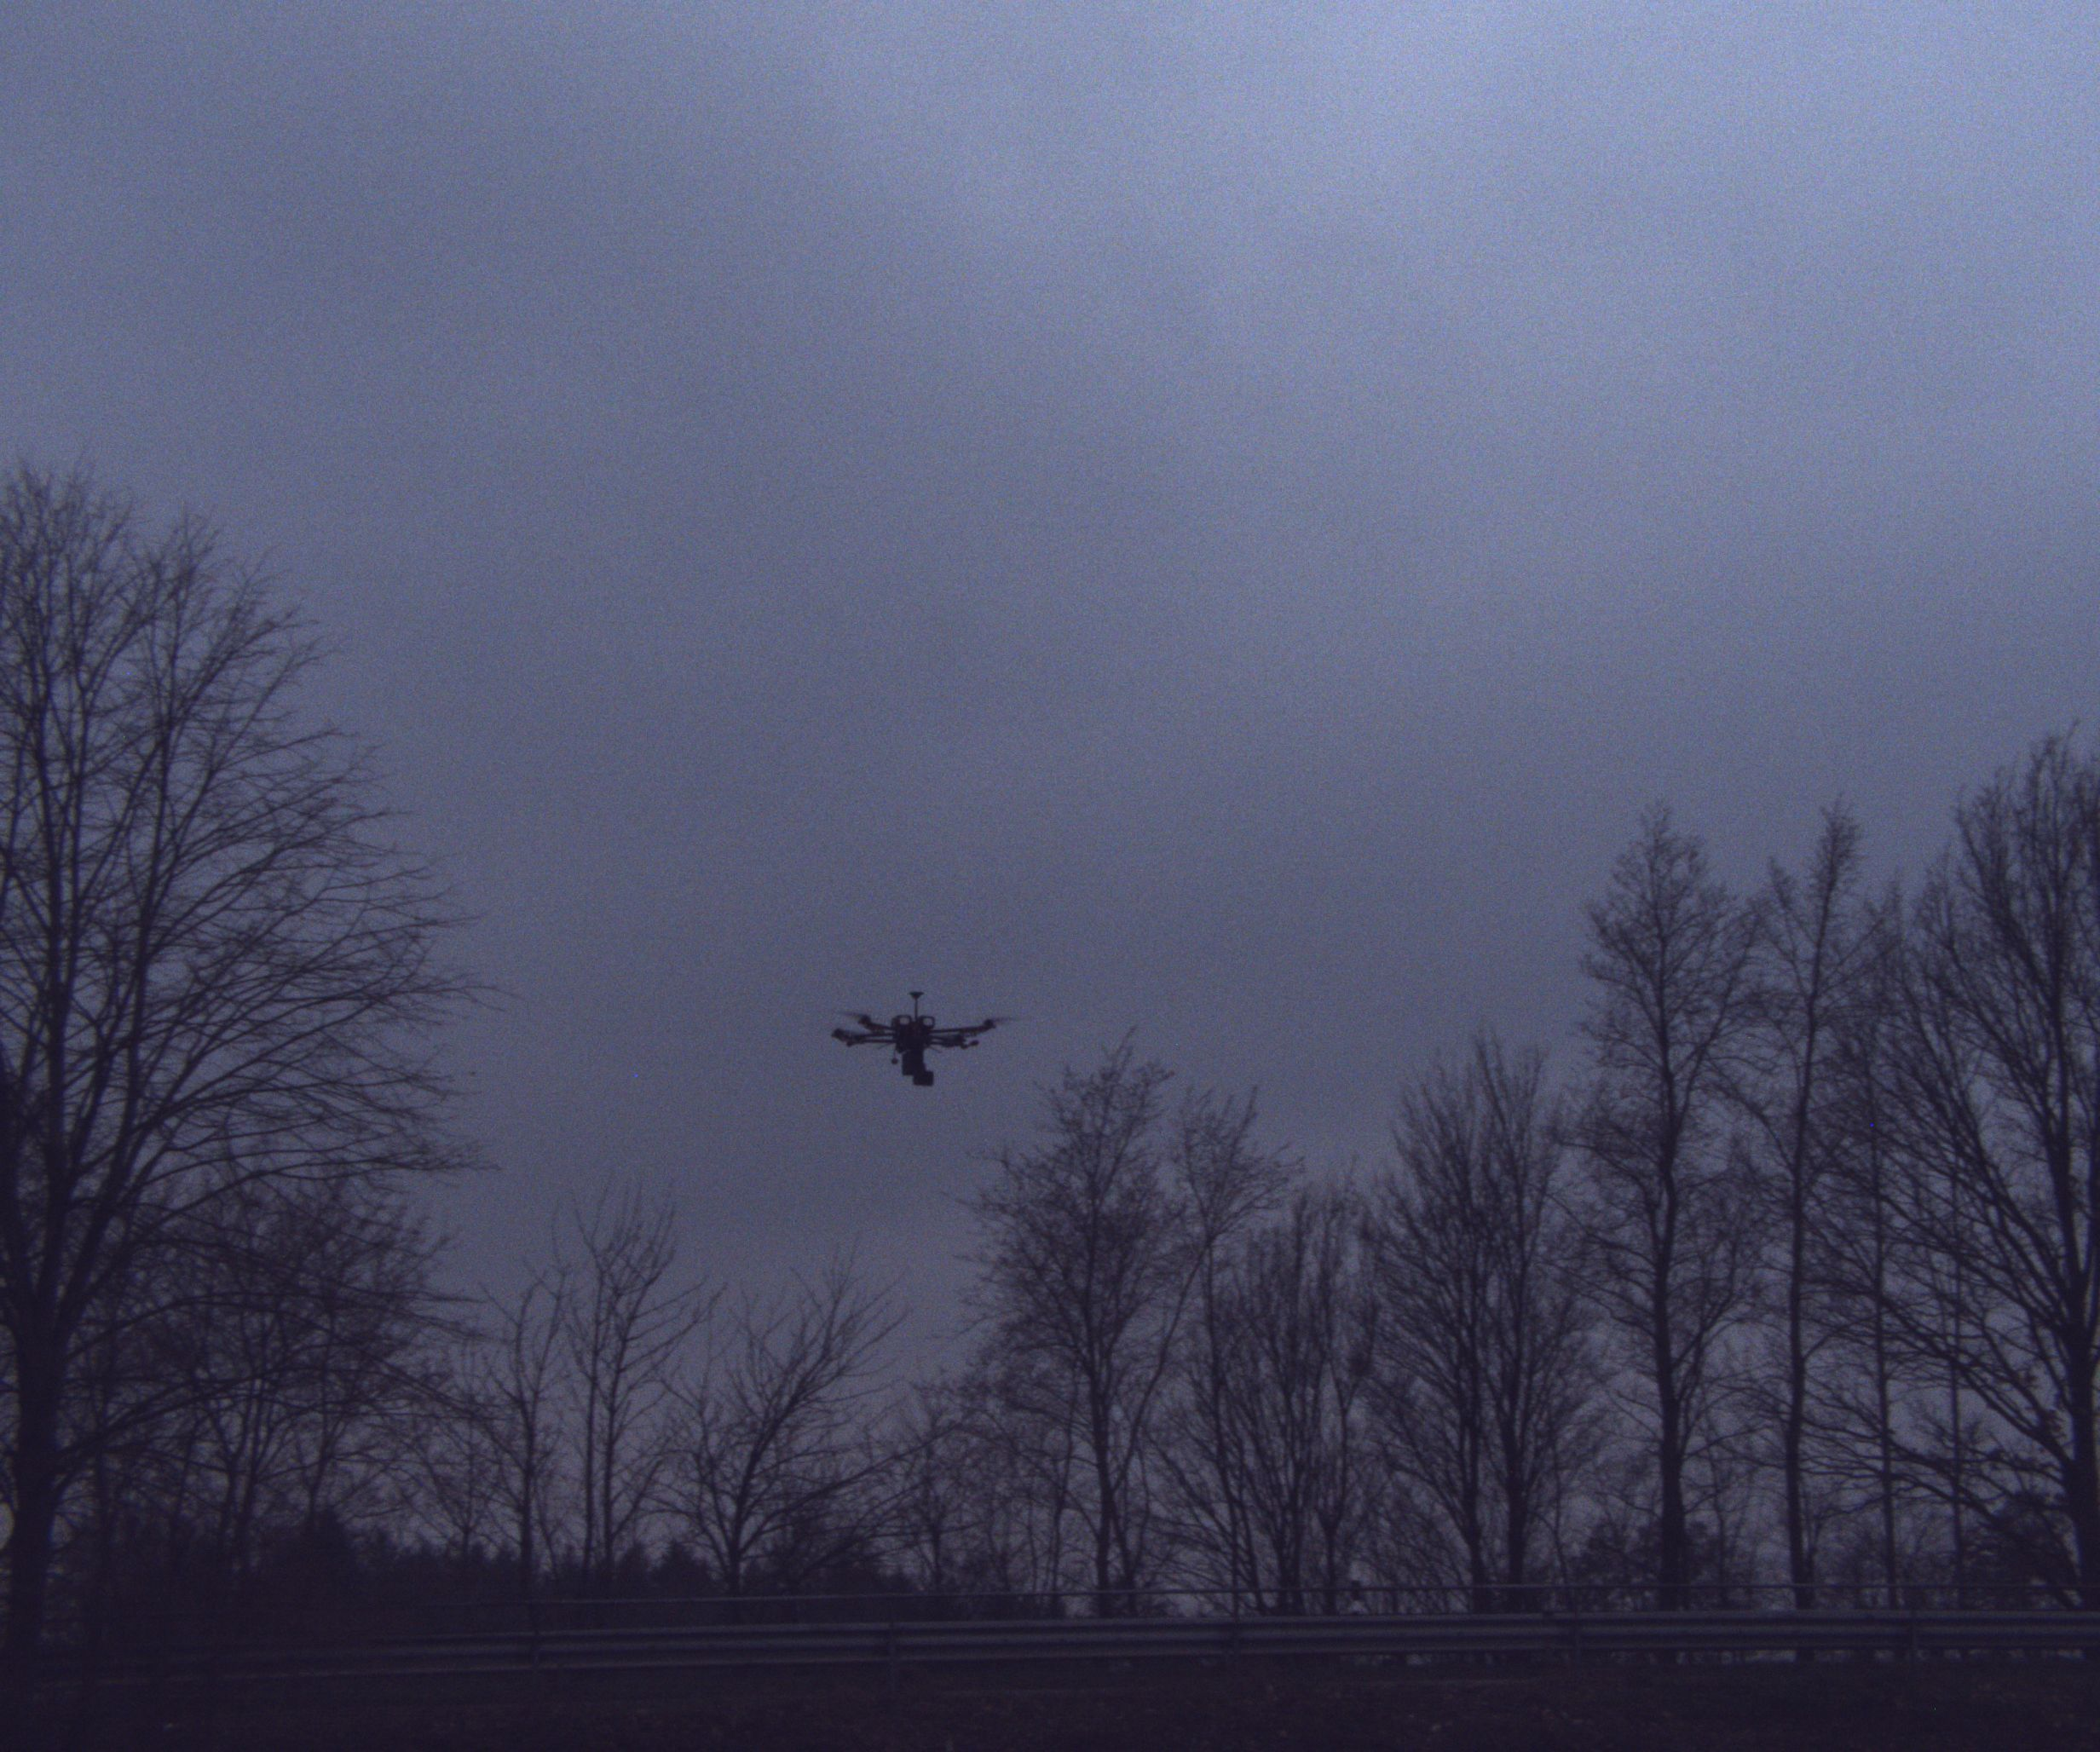Drohne: (816, 962, 1101, 1112)
